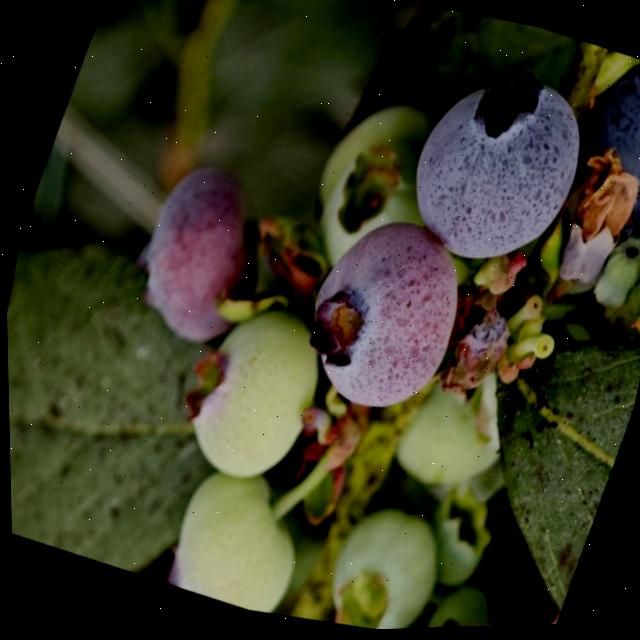RipeBlueBerry: (374, 38, 616, 306)
Semi-RipeBlueBerry: (267, 188, 492, 447)
UnripeBlueBerry: (152, 277, 345, 510)
